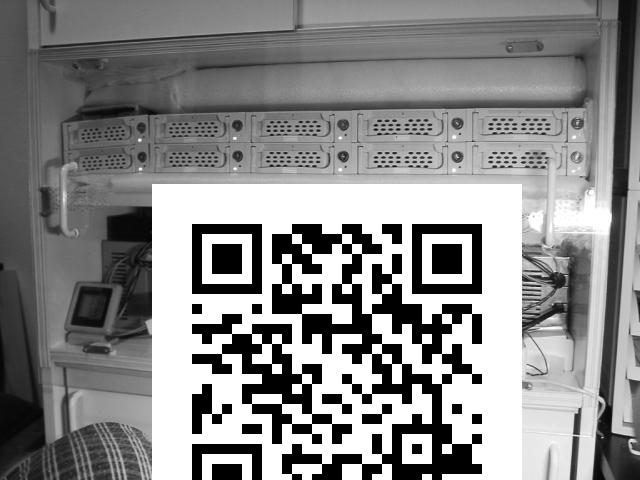qr_code: (153, 185, 521, 479)
